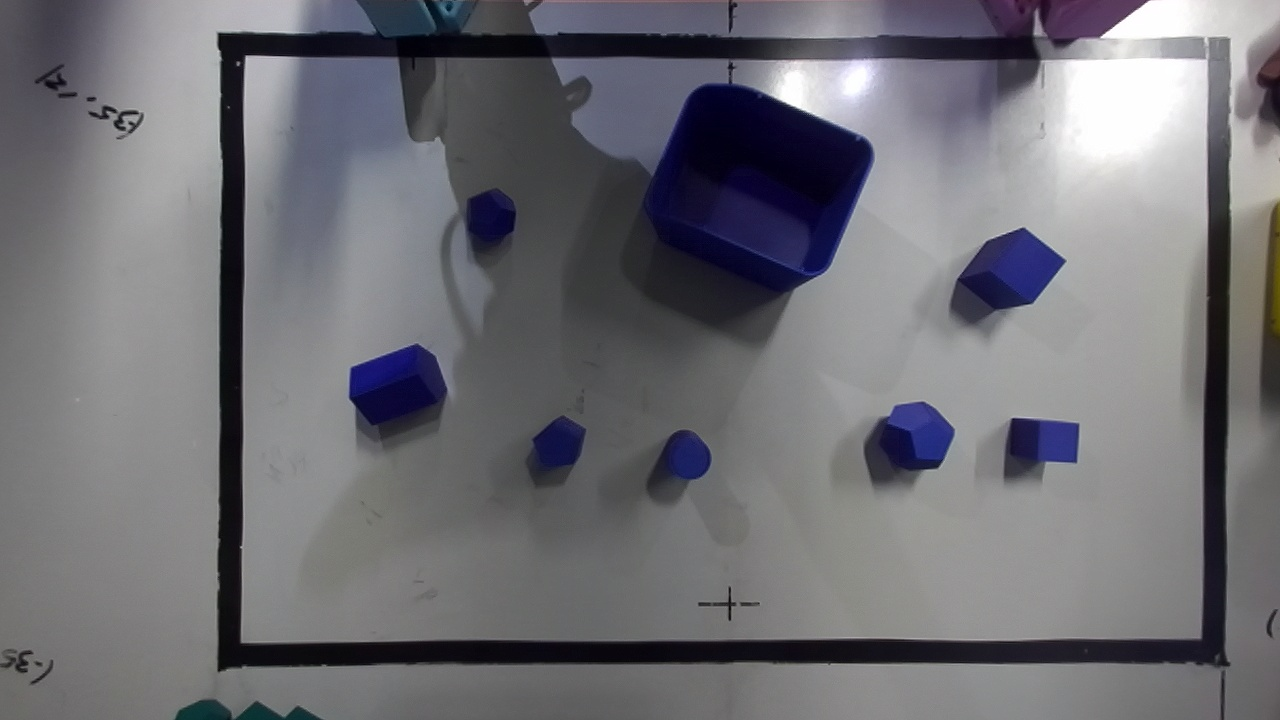bin: (644, 84, 873, 291)
cube: (958, 227, 1065, 308), (1007, 418, 1078, 462)
cylinder: (661, 430, 710, 479)
dodecahedron: (879, 401, 954, 469), (466, 189, 516, 239)
hexagonal: (349, 344, 446, 425), (532, 415, 585, 469)
